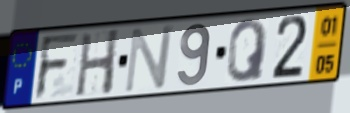2: (269, 13, 310, 81)
9: (176, 22, 212, 89)
F: (32, 31, 81, 102)
H: (73, 27, 122, 99)
N: (122, 23, 177, 95)
Q: (224, 17, 270, 85)
